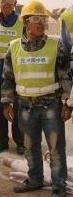boots: (16, 144, 25, 153), (0, 95, 6, 101)
gloves: (2, 102, 15, 121), (0, 80, 7, 99)
hard-hat: (18, 0, 48, 18)
vest: (0, 38, 21, 89)
